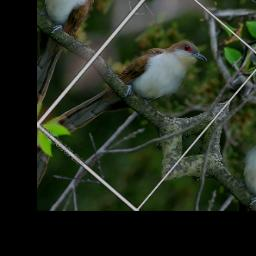Cuckoo: (45, 4, 211, 180)
